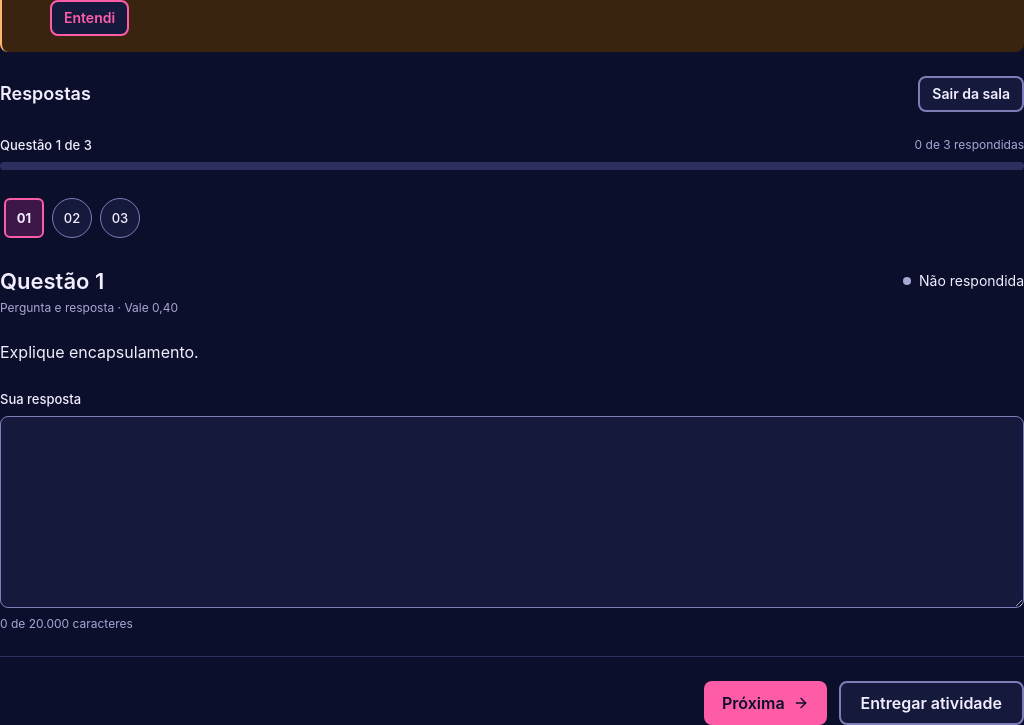
Test: 016/FR-017 saída da sala no modo controlado (research M10) › 016/US3-6 016/FR-017 na saída declarada o monitor para antes de sair da tela cheia: monitor parado → autosave e fila enviados → pausa → saída da tela cheia; nen
(page scrolled)
Expected: the navigation bar named "Questões" is shown, [4, 198, 140, 238]
An answer typed and not saved yet.
Type "Protege o estado" into the text box labelled "Sua resposta" at (512, 512), box [0, 416, 1023, 608]
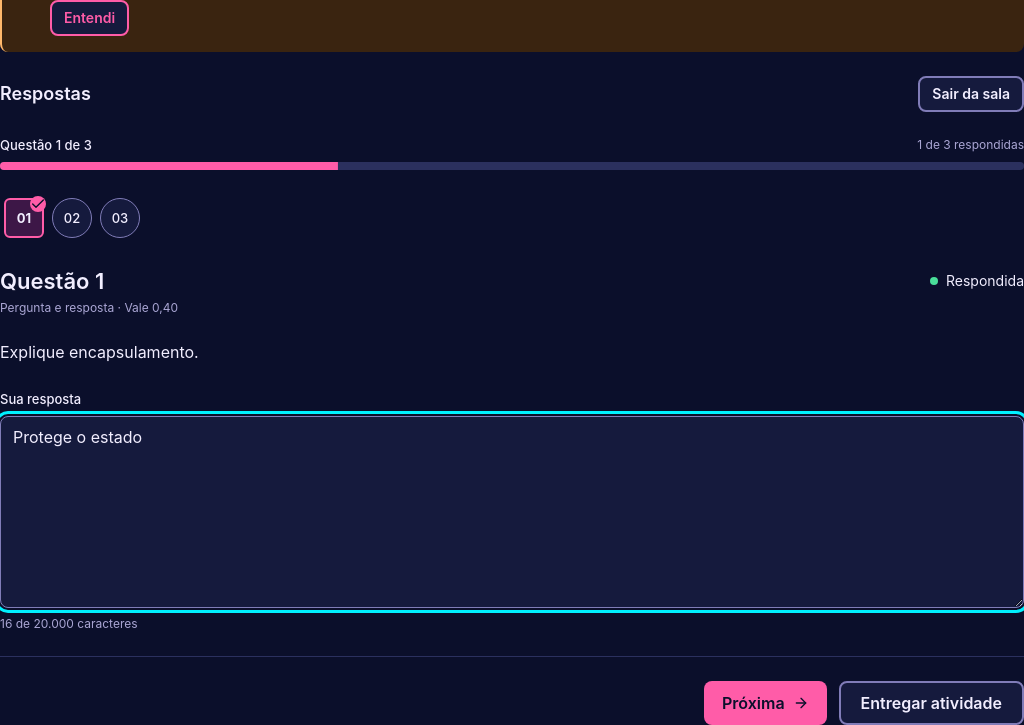
Click the button "Sair da sala" at (971, 94), box [918, 76, 1023, 112]
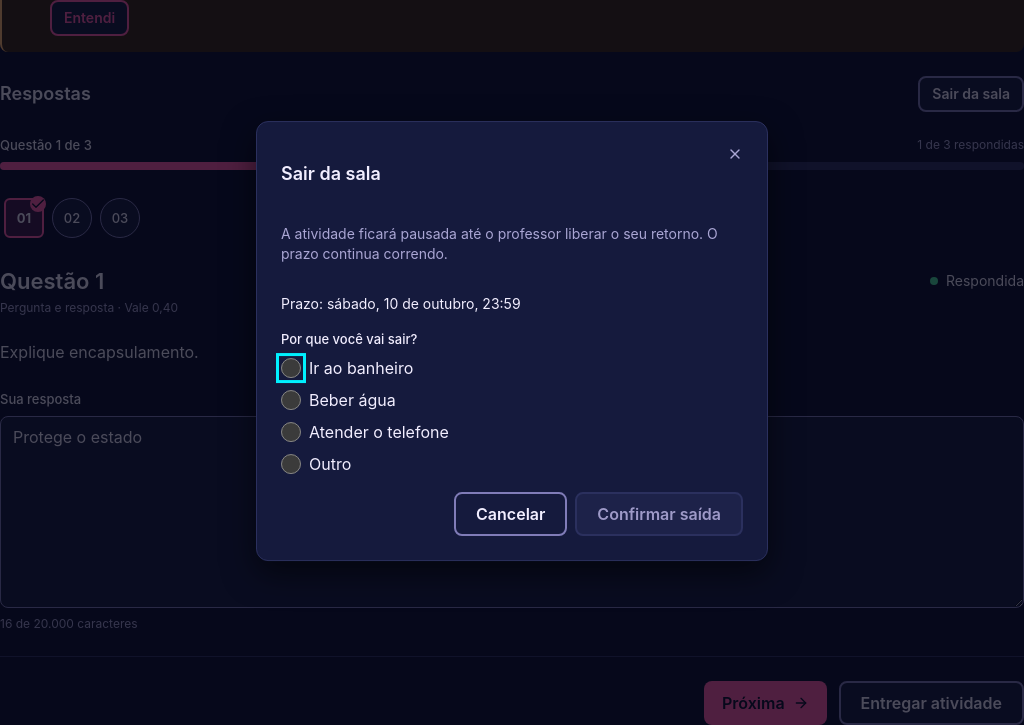
Click the radio button labelled "Beber água" at (291, 400), box [281, 390, 301, 410]
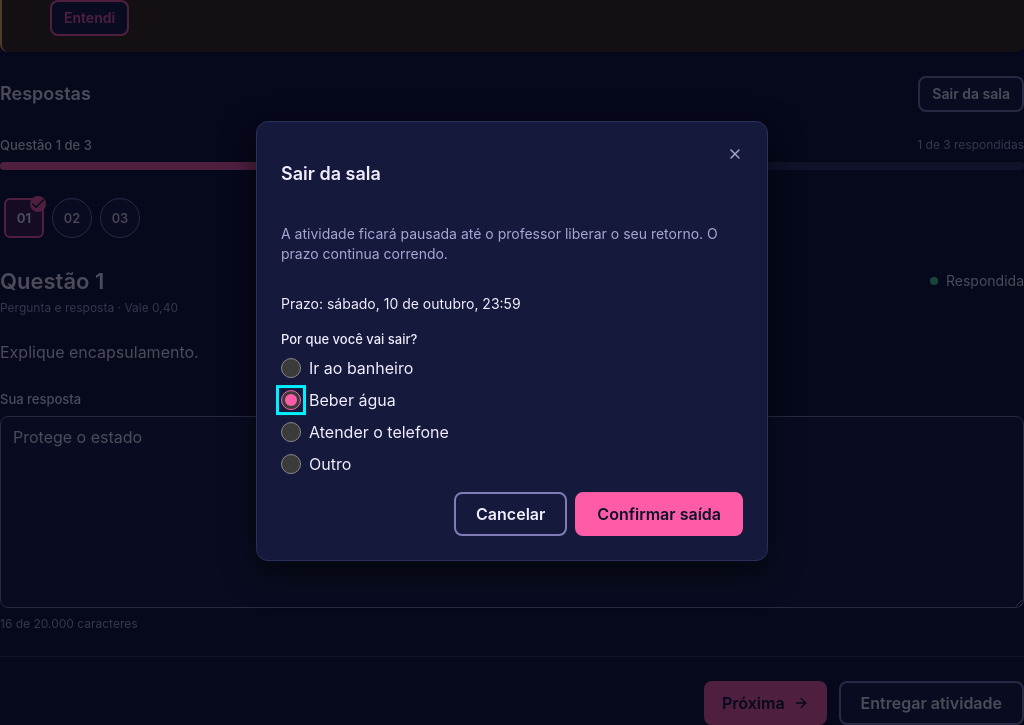
Click the button "Confirmar saída" at (659, 514), box [575, 492, 743, 536]
(page scrolled)
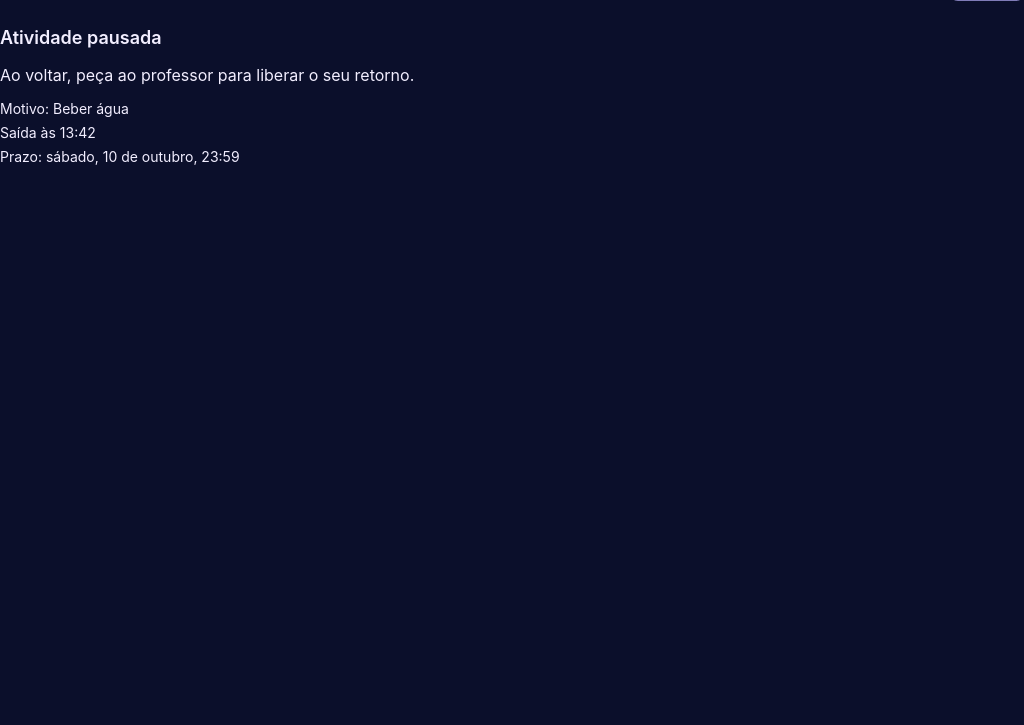
Result: the heading "Atividade pausada" is shown at [0, 27, 162, 48]
Result: the progress indicator "Questões" is gone
